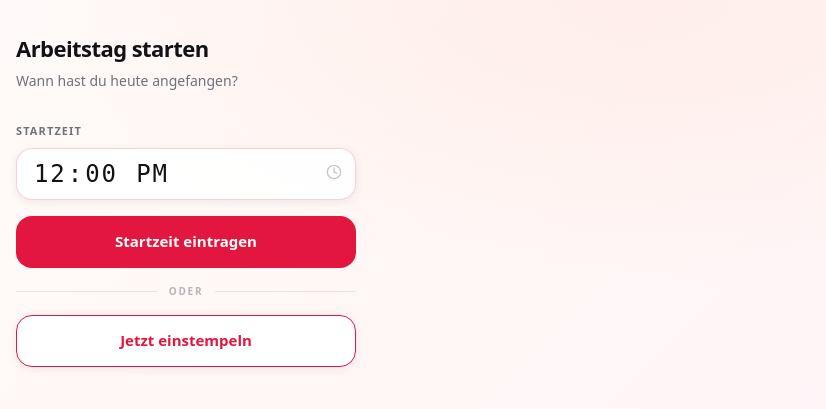
InputScreen › blocks a start time in the future
Replace the text in the time field with "23:00": (186, 174) [16,148,356,200]
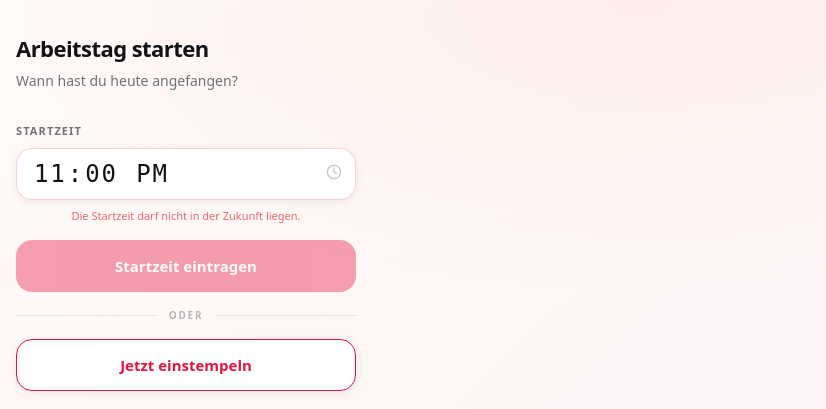
Now the text "Die Startzeit darf nicht in der Zukunft liegen." is shown, box [72,208,300,222]
Now the button "Startzeit eintragen" is disabled, box [16,240,356,292]
